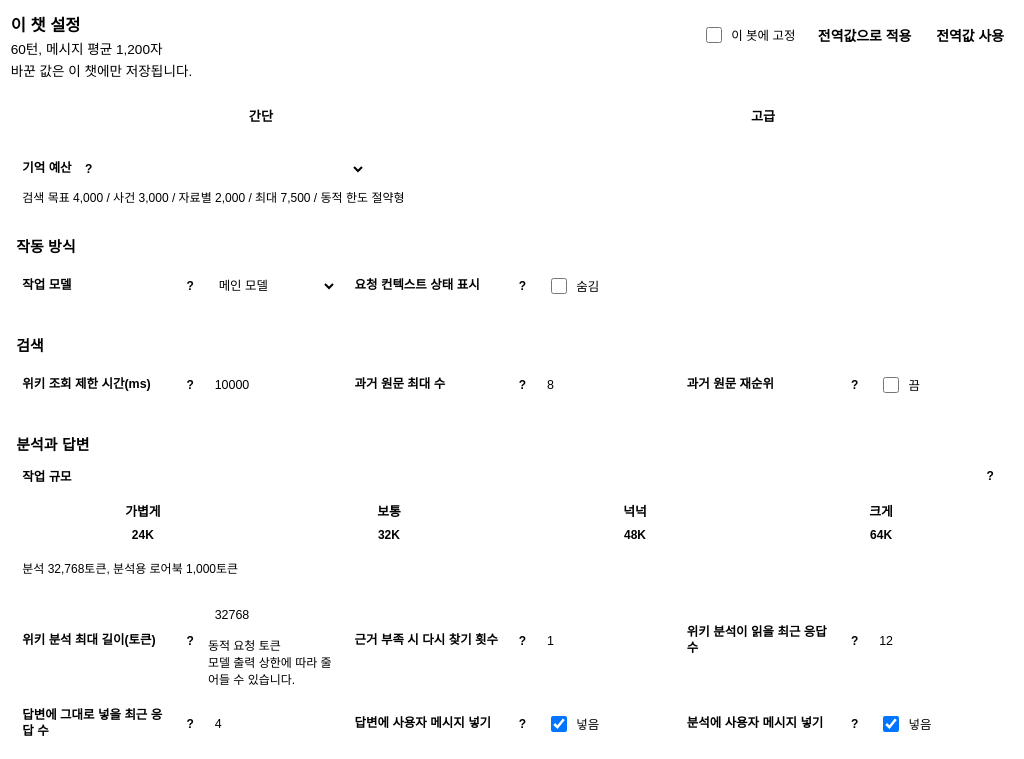
Test case: RisuBardCurrentChatSettings › names the save scope in the title and a visible line, unpinned and pinned
The image size is (1024, 759).
Check: the button "전역값 사용" is shown, box [927,14,1013,55]
What coordinates should you click on to do the following:
click the checkbox labelled "이 봇에 고정"
I would click on:
 (714, 35)
Its box is [706,27,722,43].
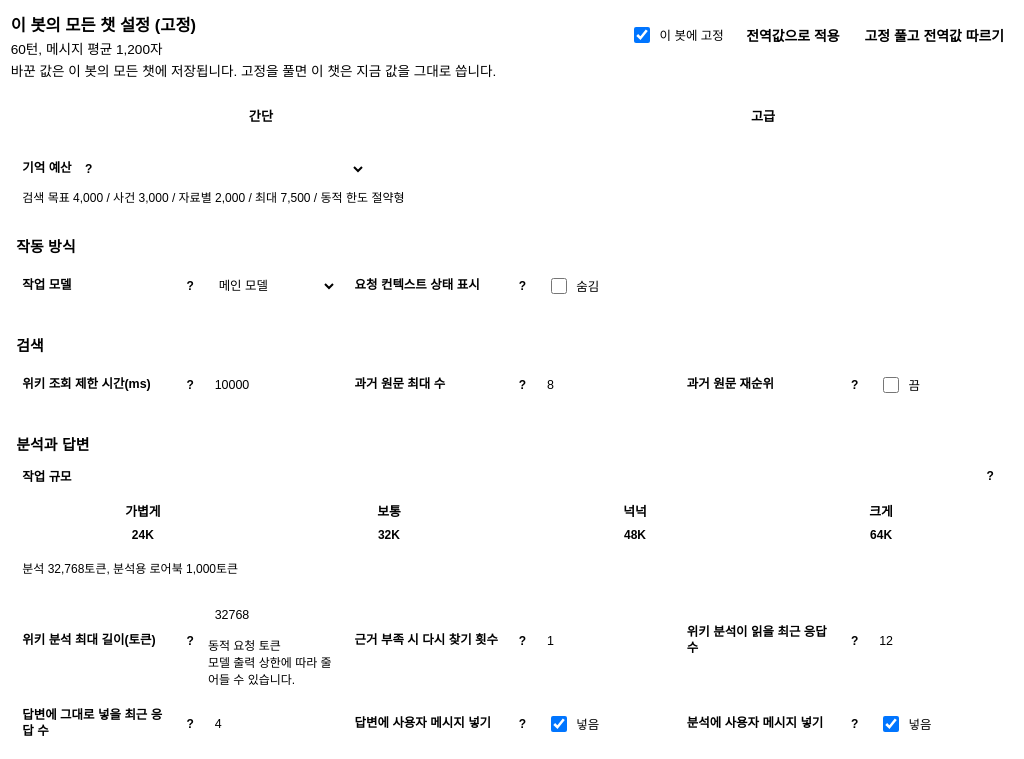
Check: the text "이 봇의 모든 챗 설정 (고정)" is shown, box [11,16,196,34]
Check: the text "바꾼 값은 이 봇의 모든 챗에 저장됩니다. 고정을 풀면 이 챗은 지금 값을 그대로 씁니다." is shown, box [11,64,496,79]
Check: the button "고정 풀고 전역값 따르기" is shown, box [855,14,1013,55]
